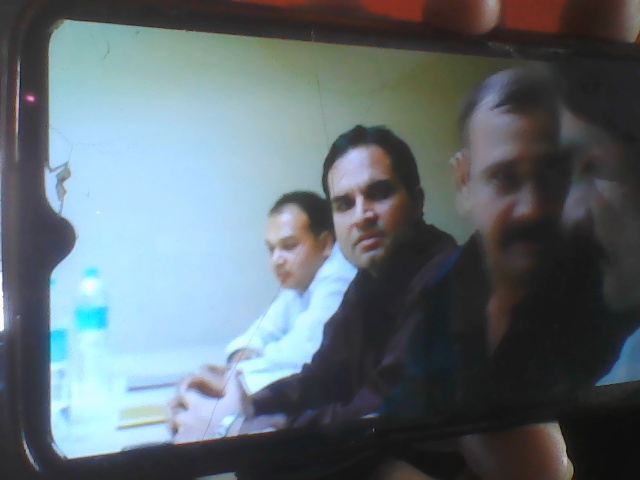fake: (313, 110, 433, 280)
